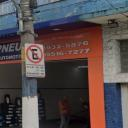NoEstacionar: (23, 42, 47, 66)
